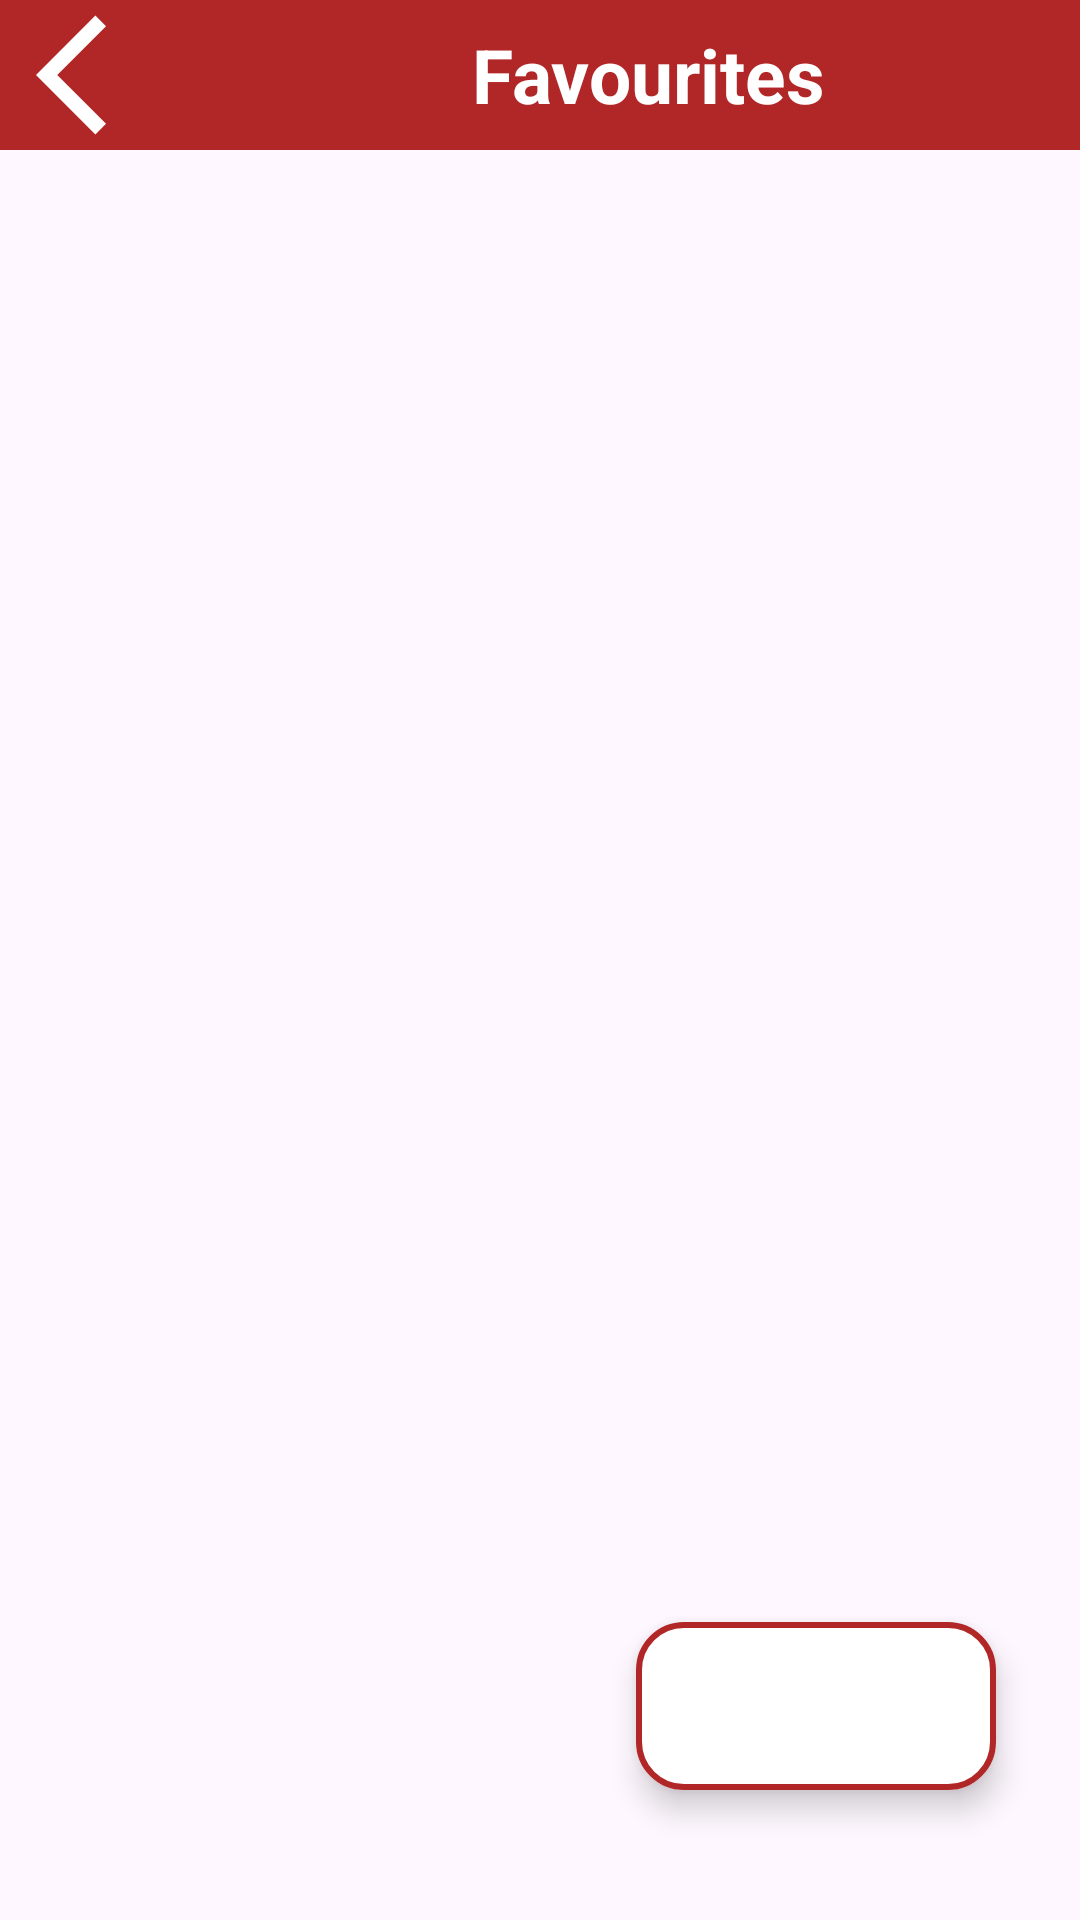

Screen size 1080px x 1920px. Icon name, then its center in pixels as [x,y]:
Back: [71,75]
